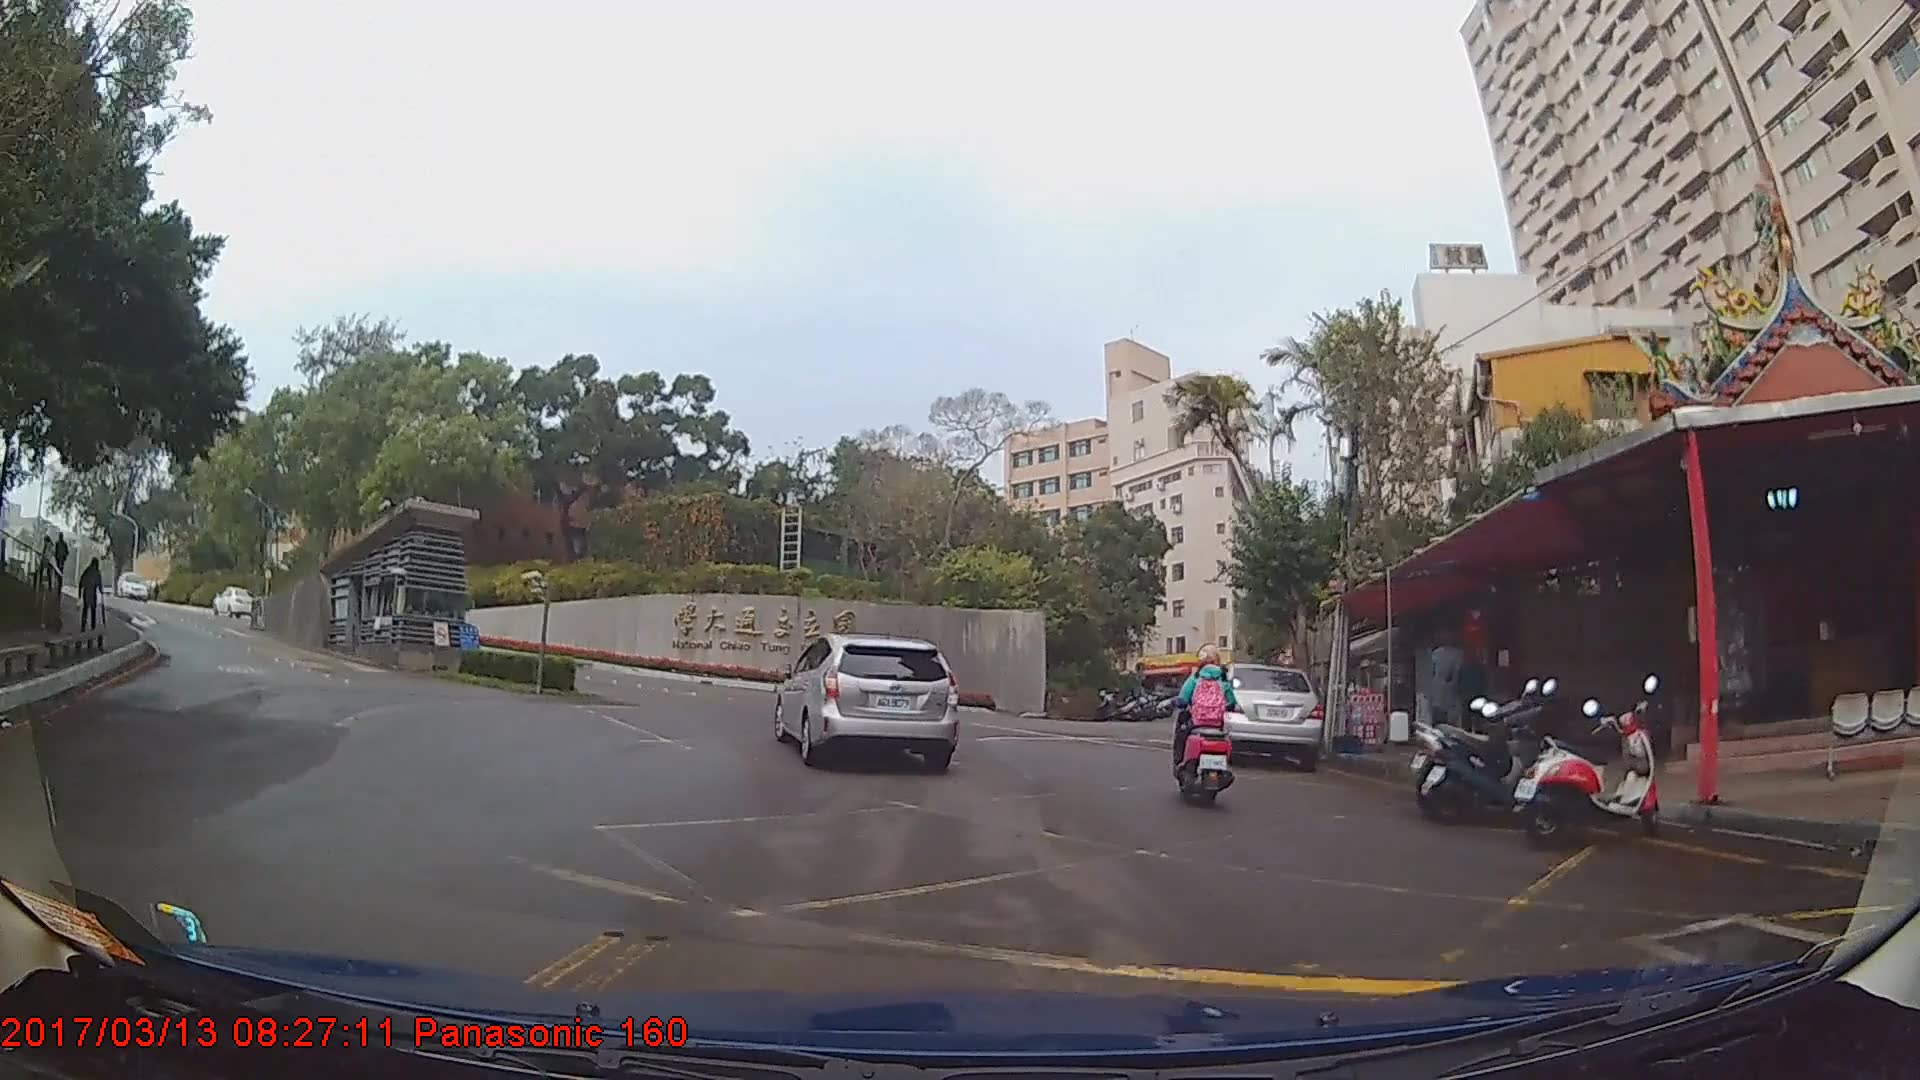pedestrian: (1453, 642, 1493, 758), (78, 557, 107, 635), (52, 530, 72, 593), (36, 535, 57, 588)
rider: (1167, 653, 1243, 818)
vehicle: (772, 631, 959, 772), (1192, 662, 1326, 771), (214, 587, 252, 617), (113, 571, 150, 601)
